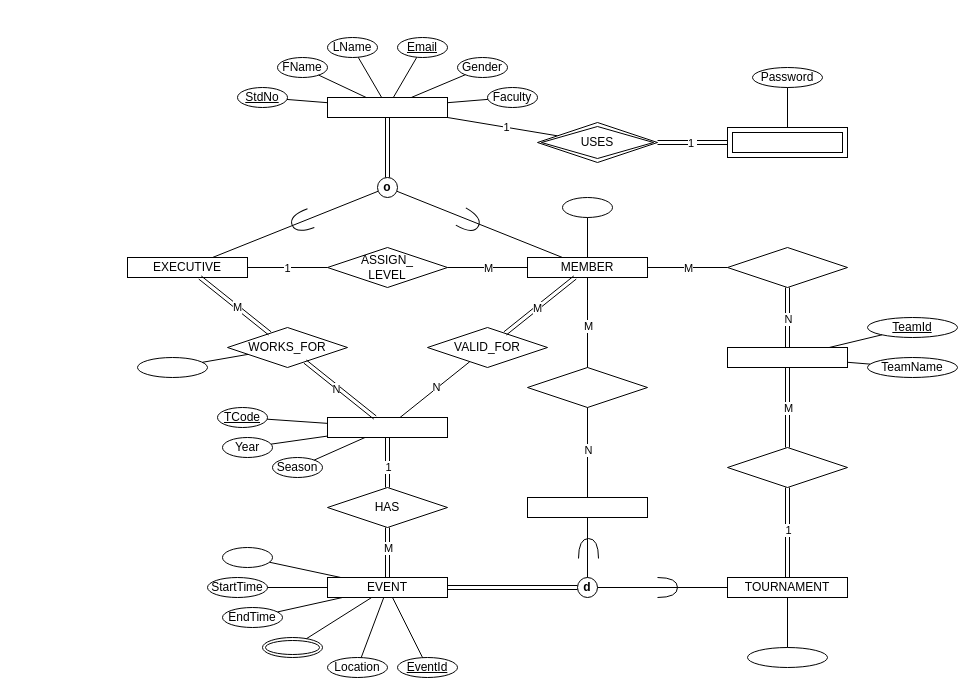
The diagram is 975 pixels wide and 695 high, and some of its shapes have lost their labels. The box of each missing label's shape, as (x1, y1, x2, y2) in pixels:
ACCOUNT: (726, 126, 848, 158)
ATTEND: (526, 366, 648, 408)
COMPETE: (726, 446, 848, 488)
Date: (222, 546, 272, 568)
ExecTeam: (136, 356, 208, 378)
Level: (562, 196, 612, 218)
Levels: (262, 636, 322, 658)
MAKE: (726, 246, 848, 288)
SESSION: (526, 496, 648, 518)
STUDENT: (326, 96, 448, 118)
TEAM: (726, 346, 848, 368)
TERM: (326, 416, 448, 438)
TourneyName: (746, 646, 828, 668)
